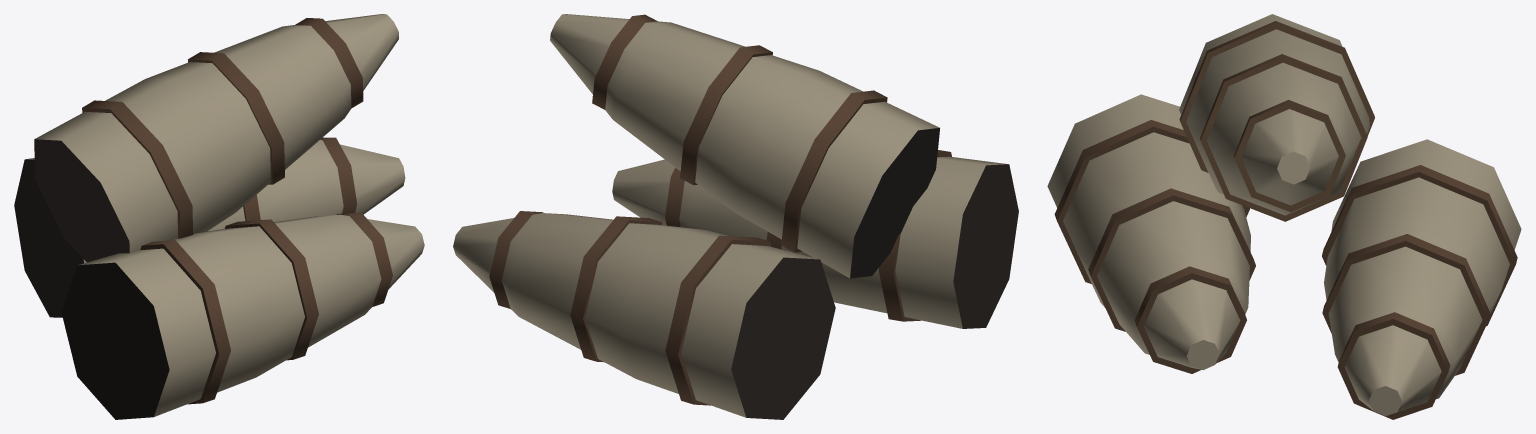
File: EelTraps.fbx
3 renders of one model, left to right at view 1: azimuth 30°, elevation 25°; view 2: azimuth 150°, elevation 25°; view 3: azimuth 270°, elevation 25°, orthographic. The views are drawn at different scales.
Visible parts, largest first — view 1: EelTraps; view 2: EelTraps; view 3: EelTraps.
Boxes of the visible parts, x1,y1,x2,y2 form: EelTraps: (14,14,424,419); EelTraps: (453,14,1018,419); EelTraps: (1047,14,1521,419).
Bounding box in the file's own units: 0.9222 × 0.6397 × 0.8502.
